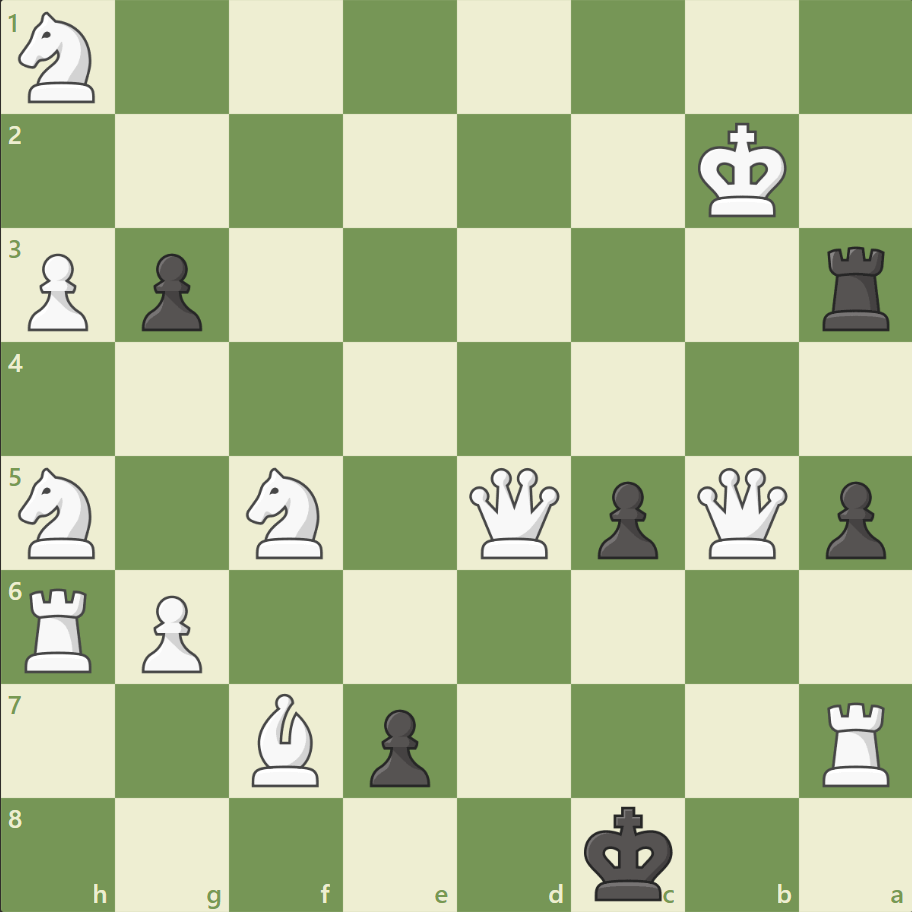B: (244, 687, 328, 790)
K: (692, 117, 792, 225)
N: (238, 461, 335, 564), (11, 461, 108, 564), (11, 7, 108, 110)
P: (133, 586, 208, 677), (20, 246, 95, 337)
Q: (691, 463, 790, 562), (464, 463, 563, 562)
R: (814, 693, 897, 790), (19, 579, 102, 676)
k: (579, 798, 679, 906)
p: (133, 246, 208, 337), (361, 700, 435, 791), (815, 473, 889, 564), (588, 473, 662, 564)
r: (814, 239, 897, 336)
